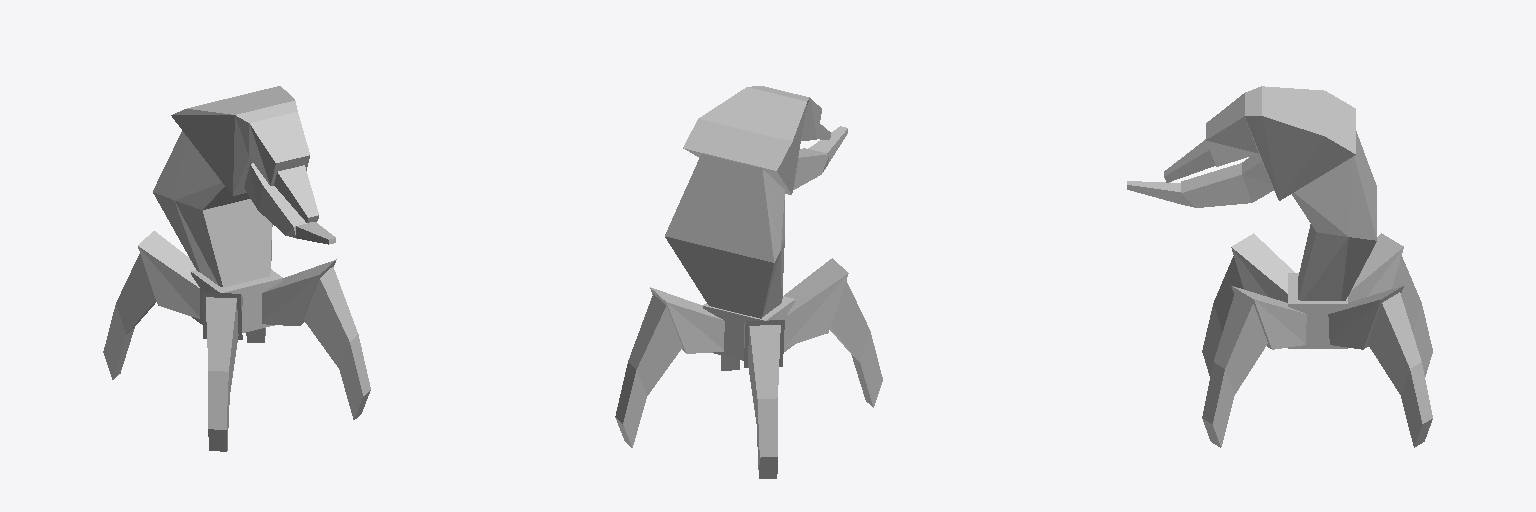
The model's file is joustalpha.obj.
The picture shows the model from 3 angles: view 1: azimuth 30°, elevation 25°; view 2: azimuth 150°, elevation 25°; view 3: azimuth 270°, elevation 25°; orthographic projection.
Visible parts, largest first — view 1: Head, Neck, FrontLeftLeg, BackRightLeg, FrontRightLeg, Mouth, Body; view 2: Neck, Head, BackLeftLeg, FrontRightLeg, BackRightLeg, Body, Mouth; view 3: Head, Neck, FrontLeftLeg, BackLeftLeg, FrontRightLeg, Mouth, BackRightLeg, Body.
Part boxes in pixels (left/top/right/bottom): Head: left=171, top=86, right=318, bottom=222; Neck: left=153, top=131, right=271, bottom=287; FrontLeftLeg: left=262, top=259, right=370, bottom=419; BackRightLeg: left=103, top=231, right=199, bottom=379; FrontRightLeg: left=201, top=292, right=242, bottom=451; Mouth: left=244, top=163, right=335, bottom=244; Body: left=191, top=269, right=282, bottom=332; Neck: left=665, top=154, right=785, bottom=318; Head: left=683, top=86, right=830, bottom=194; BackLeftLeg: left=615, top=287, right=724, bottom=447; FrontRightLeg: left=784, top=258, right=882, bottom=407; BackRightLeg: left=744, top=320, right=784, bottom=478; Body: left=703, top=296, right=794, bottom=360; Mouth: left=793, top=126, right=847, bottom=189; Head: left=1164, top=86, right=1355, bottom=200; Neck: left=1292, top=131, right=1376, bottom=300; FrontLeftLeg: left=1202, top=286, right=1306, bottom=447; BackLeftLeg: left=1328, top=286, right=1432, bottom=447; FrontRightLeg: left=1202, top=233, right=1294, bottom=375; Mouth: left=1127, top=154, right=1273, bottom=207; BackRightLeg: left=1348, top=233, right=1432, bottom=376; Body: left=1288, top=273, right=1347, bottom=348.
Bounding box in the file's own units: 1.51 × 2.74 × 2.46.